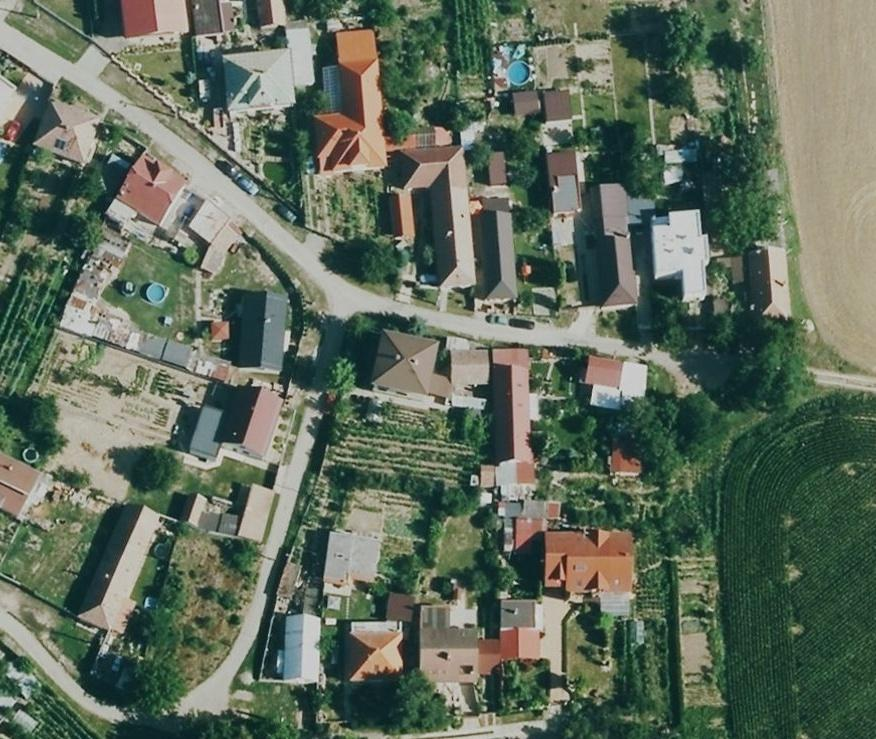field: (720, 399, 876, 737), (766, 0, 876, 370)
